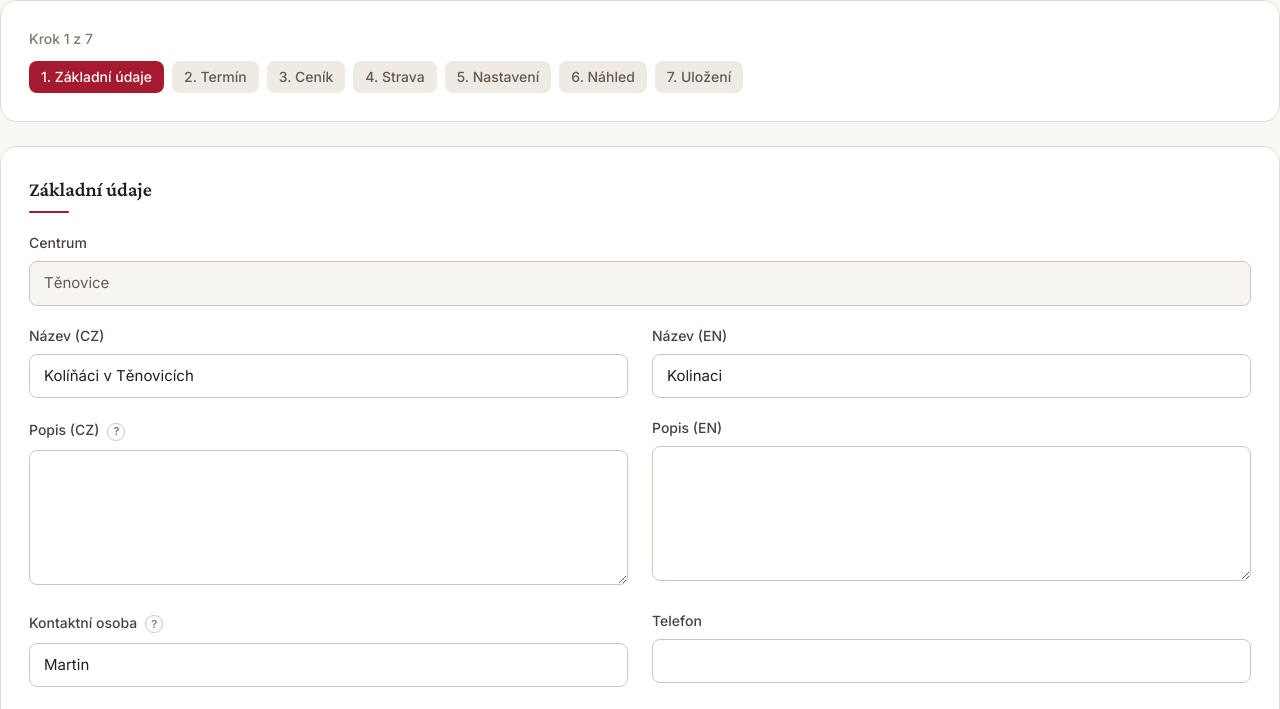
Test: saving an event that is ALREADY published › offers one honest button instead of two
The width and height of the screenshot is (1280, 709).
Click the button "7. Uložení": point(699, 77) [655,61,743,93]
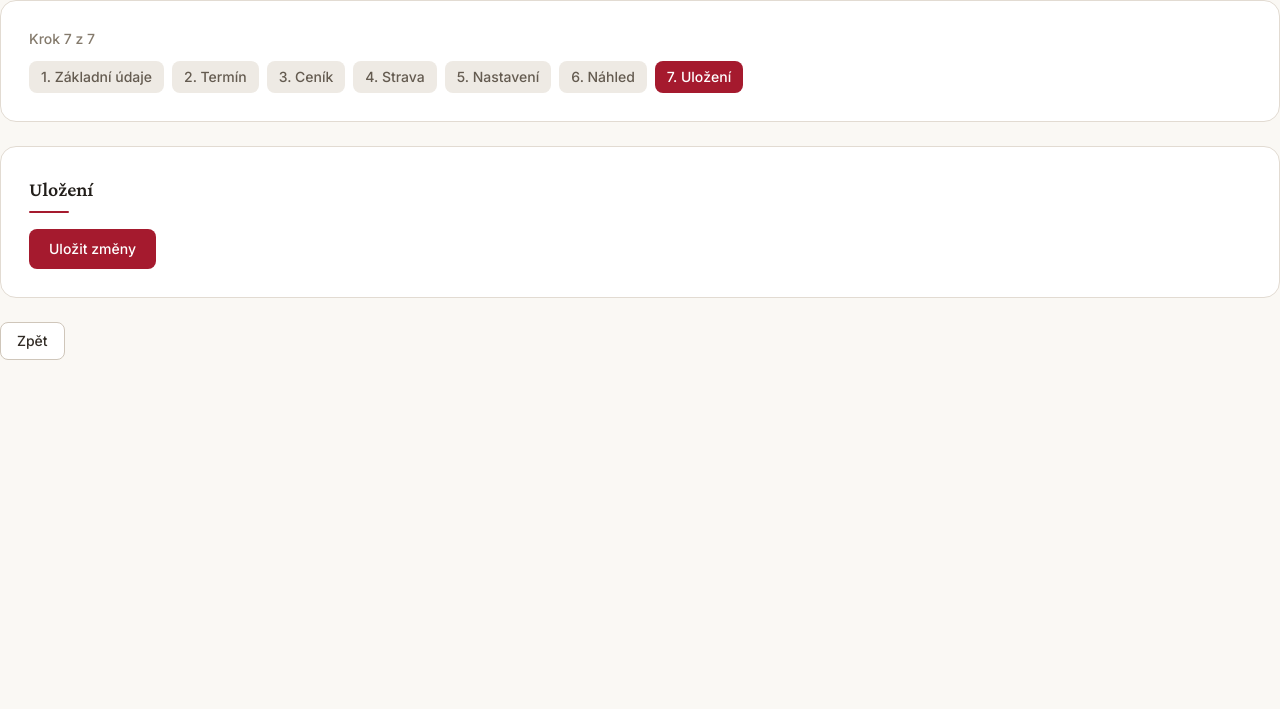
Check: the button "Uložit změny" is shown, box [29,229,156,269]
